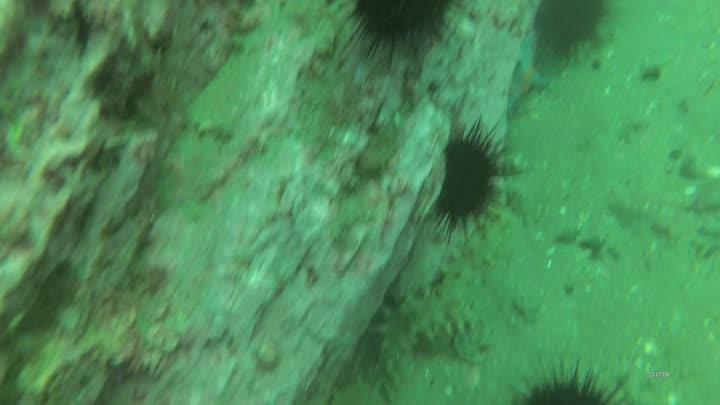urchin: (430, 116, 511, 237), (348, 1, 456, 62), (515, 357, 620, 405), (537, 2, 614, 63)
